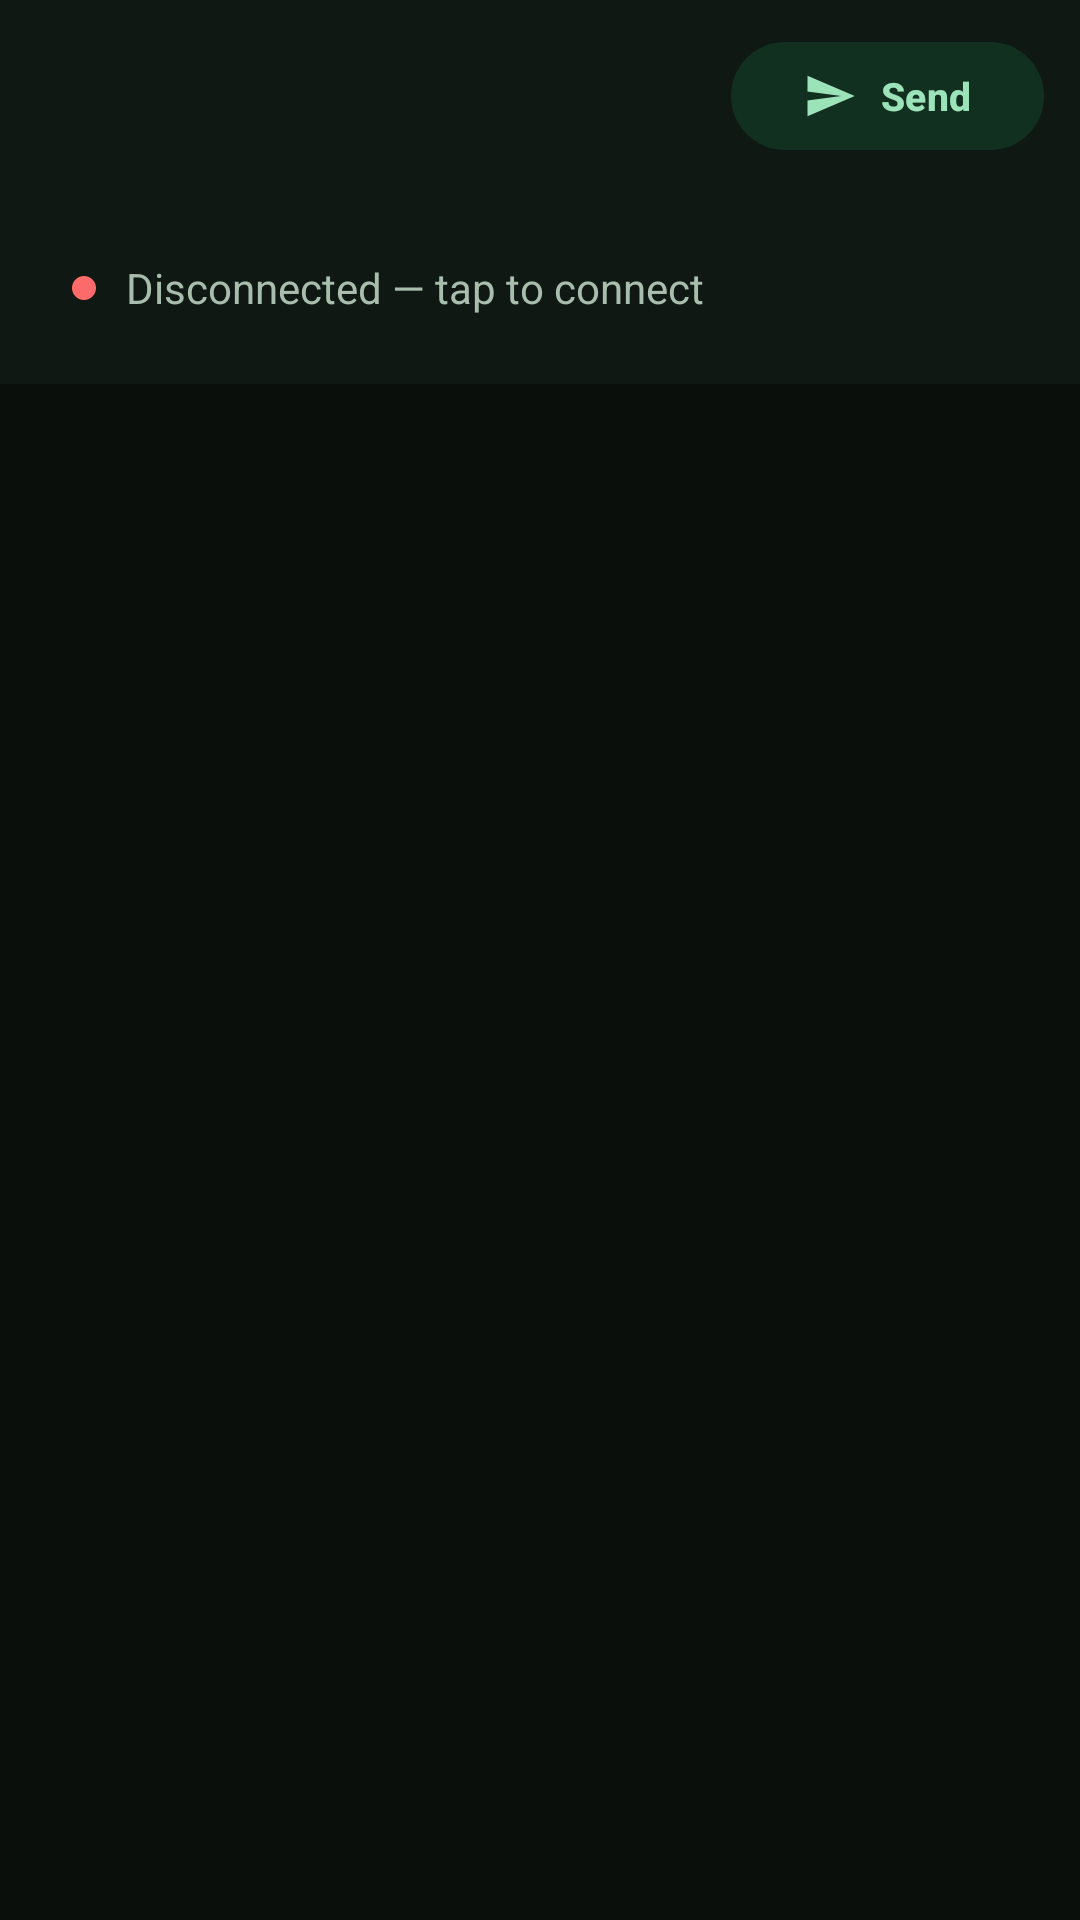

Locate icon controls on the screen. Image size 1080×1920, boxes as bbox(x1, y1, x2, y2).
dot: bbox(72, 276, 96, 300)
